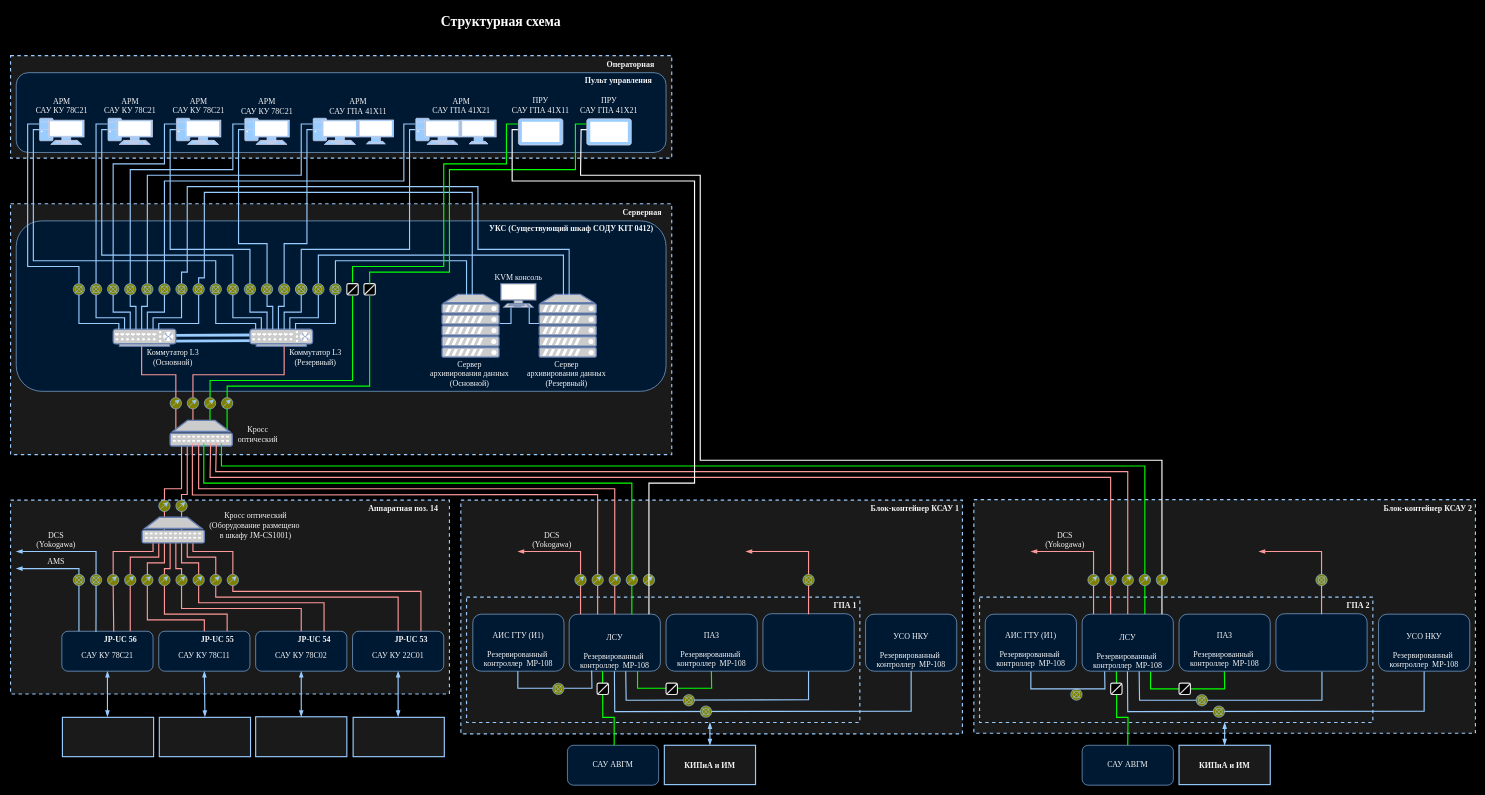
This 1485x795 diagram has some shape labels left out. The shapes that lost their labels are listed below. From the top down, each one's centre as x and y in pixels, then its label:
point (808, 642): АИС К 41С11 Резервированный контроллер МР-108
point (1321, 642): АИС К 41С21 Резервированный контроллер МР-108
point (108, 736): КУ 78С21 КИПиА и ИМ
point (204, 736): КУ 78С11 КИПиА и ИМ
point (301, 736): КУ 78С02 КИПиА и ИМ
point (398, 736): КУ 22 С01 КИПиА и ИМ
